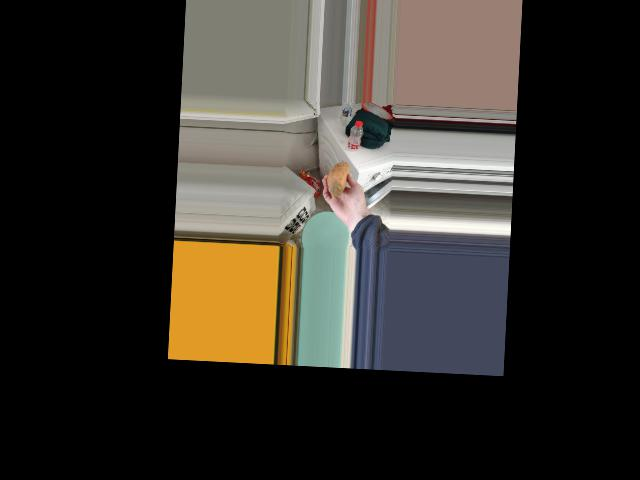sweet_potato: (327, 160, 347, 201)
